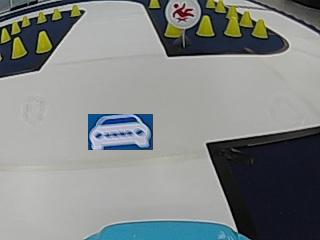cone: (196, 15, 215, 37), (224, 12, 240, 37), (252, 18, 268, 39), (36, 31, 50, 52), (11, 37, 25, 58), (164, 22, 180, 37), (240, 10, 252, 27), (214, 0, 226, 13), (0, 28, 10, 43), (51, 8, 62, 21), (70, 3, 80, 17), (10, 21, 20, 34), (21, 14, 31, 27), (37, 11, 46, 23)
tumble: (171, 1, 200, 25)
